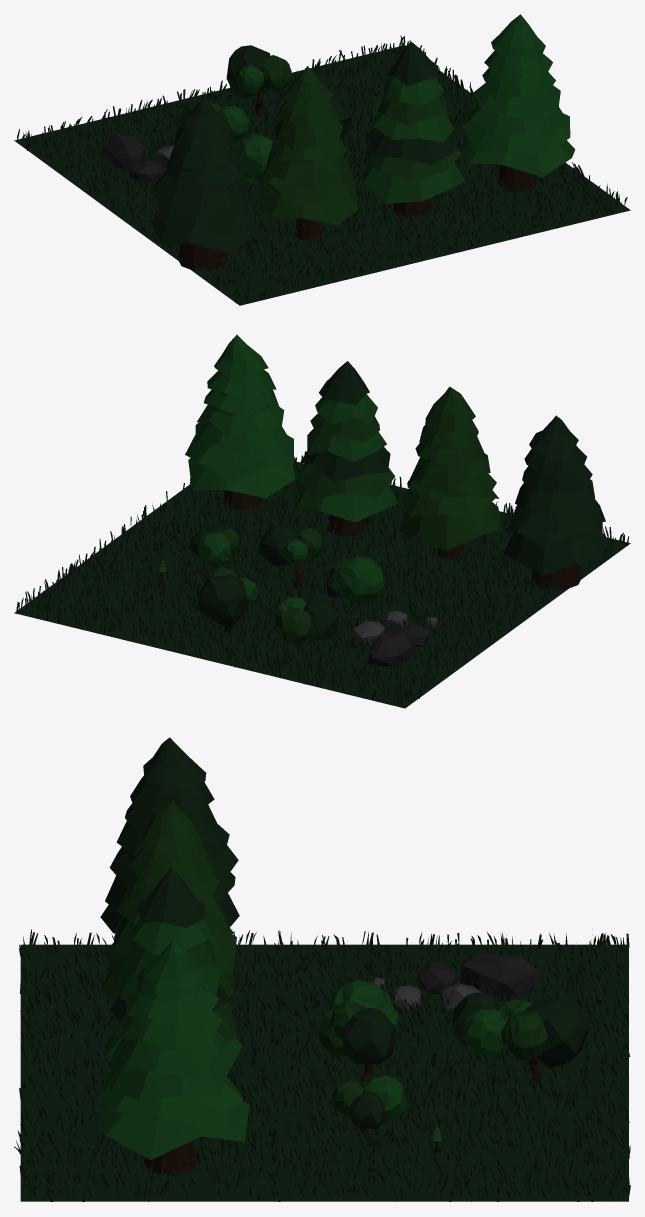
Rendered from nature (3).fbx.
3 views of the same model, one above another, from view 1: azimuth 30°, elevation 25°; view 2: azimuth 150°, elevation 25°; view 3: azimuth 270°, elevation 25° (orthographic). The views are drawn at different scales.
Parts seen in each view (by area): view 1: trawa, Object001, tree002, tree003, tree, tree001, krzak002, krzak001, stone4, krzak004, stone5; view 2: trawa, Object001, tree002, tree003, tree, tree001, krzak002, krzak004, krzak, krzak001, krzak003, stone4 (+1 smaller); view 3: trawa, Object001, tree002, tree001, tree003, tree, krzak002, krzak, krzak003, krzak004, stone4, krzak001 (+1 smaller).
Boxes of the visible parts, x1,y1,x2,y2 form: trawa: [14, 45, 630, 305]; Object001: [17, 35, 627, 303]; tree002: [459, 14, 575, 191]; tree003: [151, 97, 254, 270]; tree: [363, 41, 464, 217]; tree001: [255, 66, 358, 240]; krzak002: [226, 45, 291, 116]; krzak001: [234, 134, 273, 183]; stone4: [103, 133, 145, 171]; krzak004: [209, 102, 248, 141]; stone5: [129, 160, 165, 182]; trawa: [14, 462, 630, 708]; Object001: [16, 451, 629, 707]; tree002: [185, 334, 295, 510]; tree003: [503, 415, 605, 589]; tree: [296, 361, 398, 536]; tree001: [399, 386, 501, 559]; krzak002: [198, 567, 257, 632]; krzak004: [275, 597, 338, 644]; krzak: [258, 524, 323, 588]; krzak001: [326, 556, 383, 605]; krzak003: [189, 528, 240, 567]; stone4: [368, 630, 414, 666]; trawa: [20, 944, 628, 1201]; Object001: [14, 929, 630, 1202]; tree002: [91, 940, 249, 1174]; tree001: [100, 800, 236, 1000]; tree003: [100, 737, 239, 933]; tree: [105, 868, 242, 1075]; krzak002: [501, 997, 589, 1085]; krzak: [330, 1001, 398, 1081]; krzak003: [332, 1075, 405, 1134]; krzak004: [452, 992, 525, 1056]; stone4: [460, 953, 541, 995]; krzak001: [318, 980, 393, 1055].
Size of the model in its own units: 769 by 311 by 726.
